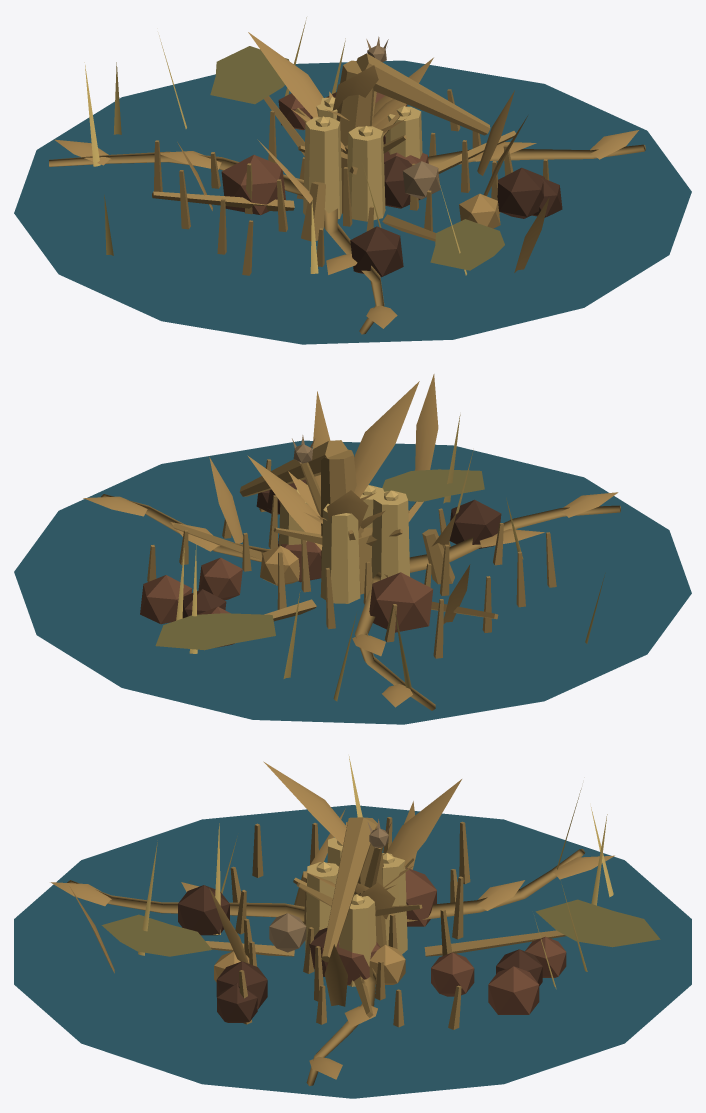
File: stubble-b524b1ecab.glb
3 views of the same model, one above another, from view 1: azimuth 30°, elevation 25°; view 2: azimuth 150°, elevation 25°; view 3: azimuth 270°, elevation 25° (orthographic). The views are drawn at different scales.
Visible parts, largest first — view 1: stubble__sen__mac_dinh, stubble__cu__mac_dinh, stubble__mia__mac_dinh, stubble__ngo__mac_dinh, stubble__lua__mac_dinh, stubble__day_bo__mac_dinh, stubble__bui__mac_dinh, stubble__hoa__mac_dinh; view 2: stubble__sen__mac_dinh, stubble__cu__mac_dinh, stubble__mia__mac_dinh, stubble__ngo__mac_dinh, stubble__lua__mac_dinh, stubble__day_bo__mac_dinh, stubble__bui__mac_dinh, stubble__hoa__mac_dinh; view 3: stubble__sen__mac_dinh, stubble__cu__mac_dinh, stubble__lua__mac_dinh, stubble__ngo__mac_dinh, stubble__mia__mac_dinh, stubble__day_bo__mac_dinh, stubble__hoa__mac_dinh, stubble__bui__mac_dinh.
Boxes of the visible parts, x1=… form: stubble__sen__mac_dinh: x1=14, y1=46, x2=691, y2=344; stubble__cu__mac_dinh: x1=221, y1=92, x2=562, y2=277; stubble__mia__mac_dinh: x1=177, y1=90, x2=549, y2=272; stubble__ngo__mac_dinh: x1=248, y1=32, x2=490, y2=241; stubble__lua__mac_dinh: x1=84, y1=17, x2=549, y2=275; stubble__day_bo__mac_dinh: x1=49, y1=130, x2=645, y2=334; stubble__bui__mac_dinh: x1=291, y1=91, x2=406, y2=213; stubble__hoa__mac_dinh: x1=325, y1=36, x2=400, y2=126; stubble__sen__mac_dinh: x1=14, y1=440, x2=691, y2=724; stubble__cu__mac_dinh: x1=140, y1=479, x2=501, y2=647; stubble__mia__mac_dinh: x1=209, y1=374, x2=470, y2=623; stubble__ngo__mac_dinh: x1=239, y1=381, x2=456, y2=592; stubble__lua__mac_dinh: x1=147, y1=414, x2=605, y2=701; stubble__day_bo__mac_dinh: x1=83, y1=492, x2=620, y2=710; stubble__bui__mac_dinh: x1=273, y1=510, x2=409, y2=594; stubble__hoa__mac_dinh: x1=288, y1=435, x2=375, y2=519; stubble__sen__mac_dinh: x1=14, y1=805, x2=691, y2=1098; stubble__cu__mac_dinh: x1=178, y1=868, x2=566, y2=1022; stubble__lua__mac_dinh: x1=138, y1=756, x2=613, y2=1029; stubble__ngo__mac_dinh: x1=263, y1=761, x2=461, y2=962; stubble__mia__mac_dinh: x1=69, y1=801, x2=416, y2=1006; stubble__day_bo__mac_dinh: x1=50, y1=849, x2=614, y2=1086; stubble__hoa__mac_dinh: x1=355, y1=819, x2=391, y2=894; stubble__bui__mac_dinh: x1=293, y1=857, x2=422, y2=916.
Size of the model in its own units: 1.6 by 0.5049 by 1.56.
